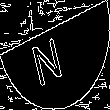N_N: (36, 25, 74, 85)
